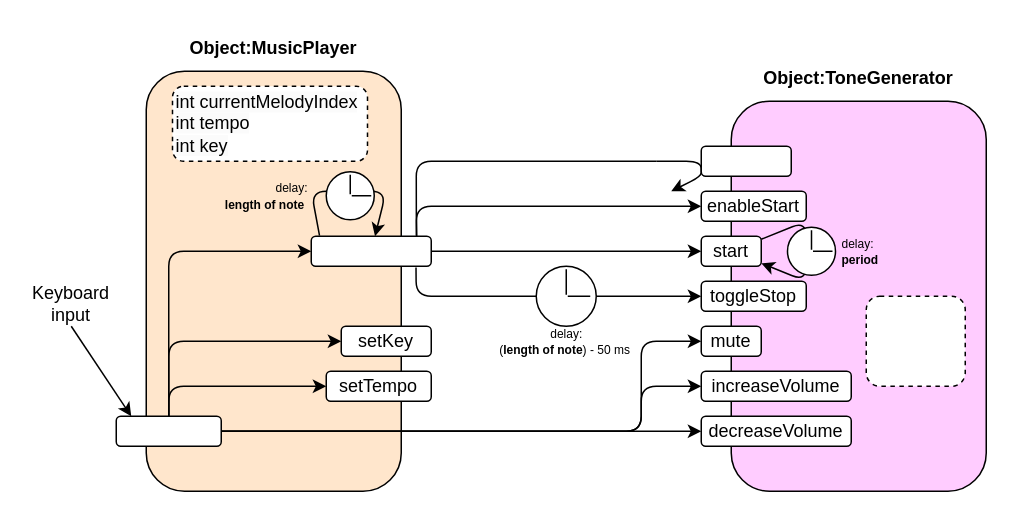
Some shapes in this 1013 by 518 pixel diagram are drawn without their labels. Here are the shapes that lost their labels. From the top down, the centre of each, then its label:
At pixel 745 160: "setPeriod".
At pixel 370 250: "playMelody".
At pixel 915 340: "int period bool mute bool stop int volume".
At pixel 168 430: "controller".
